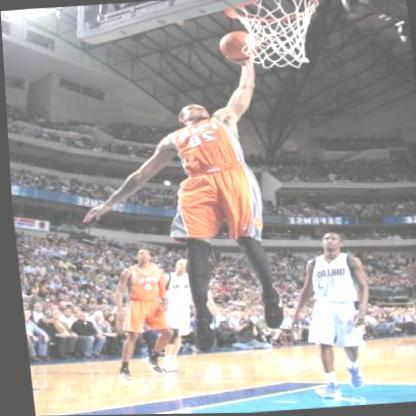basketball: (218, 32, 254, 63)
rim: (230, 0, 326, 67)
